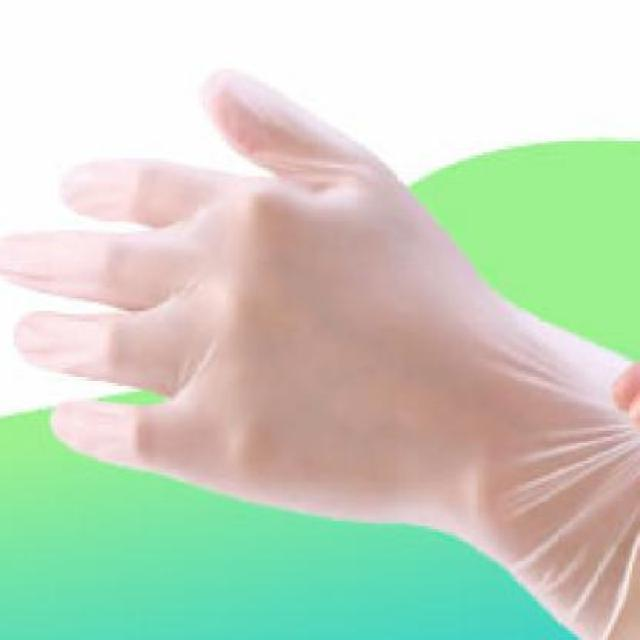gloved_hand: (14, 69, 640, 634)
